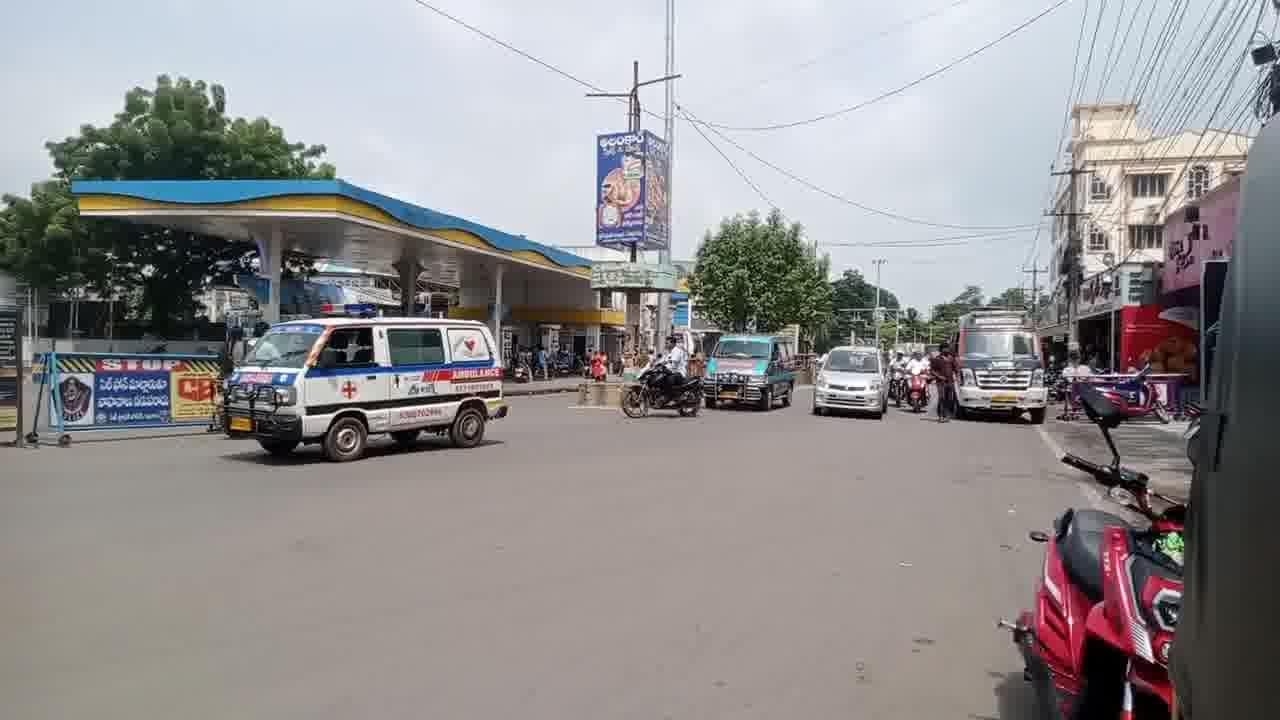AMBULANCE: (210, 300, 533, 464), (964, 309, 1057, 434), (712, 322, 802, 415)
